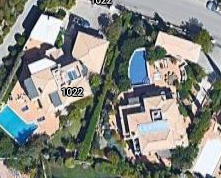pool: (1, 109, 31, 136), (132, 52, 147, 84)
